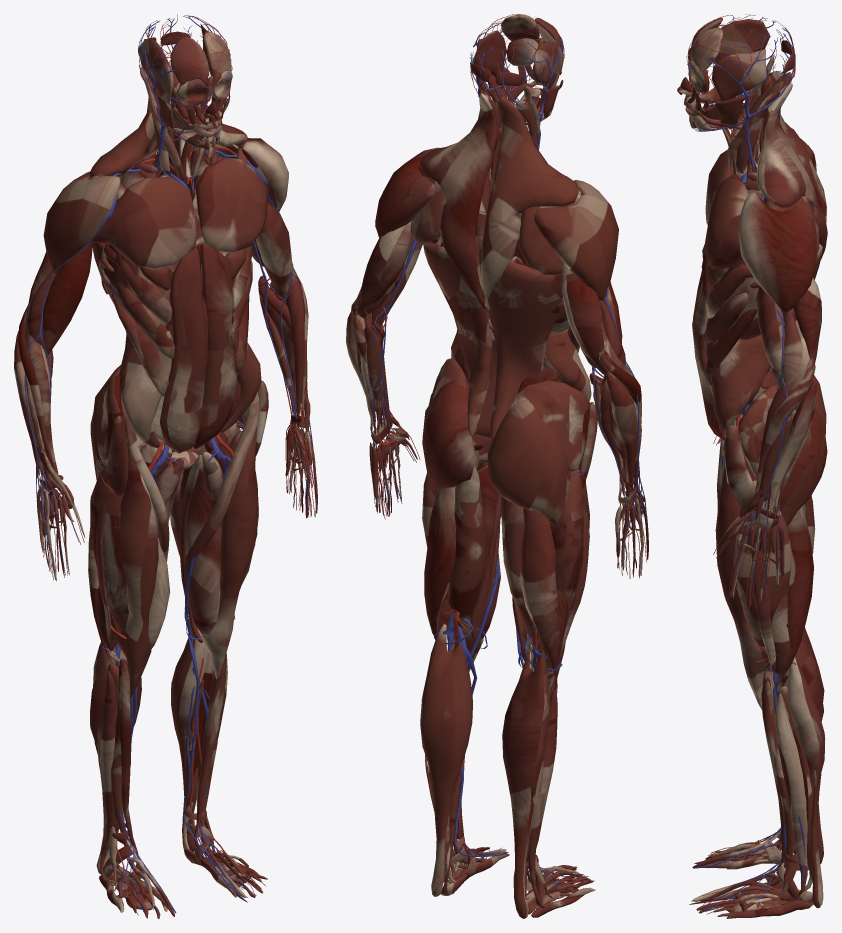
File: human muscles anatomy.fbx
The picture shows the model from 3 angles, left to right: view 1: azimuth 30°, elevation 25°; view 2: azimuth 150°, elevation 25°; view 3: azimuth 270°, elevation 25°; orthographic projection.
Parts seen in each view (by area): view 1: Musclespart_One, M_body nerves_One; view 2: Musclespart_One, M_body nerves_One; view 3: Musclespart_One, M_body nerves_One.
Part boxes in pixels (<box>): Musclespart_One: <box>14,24,317,918</box>; M_body nerves_One: <box>24,14,316,916</box>; Musclespart_One: <box>346,14,648,918</box>; M_body nerves_One: <box>371,14,647,886</box>; Musclespart_One: <box>677,17,827,918</box>; M_body nerves_One: <box>686,14,811,914</box>.
Bounding box in the file's own units: 0.7006 × 2.05 × 0.3208.
5 materials, 5 textured.
